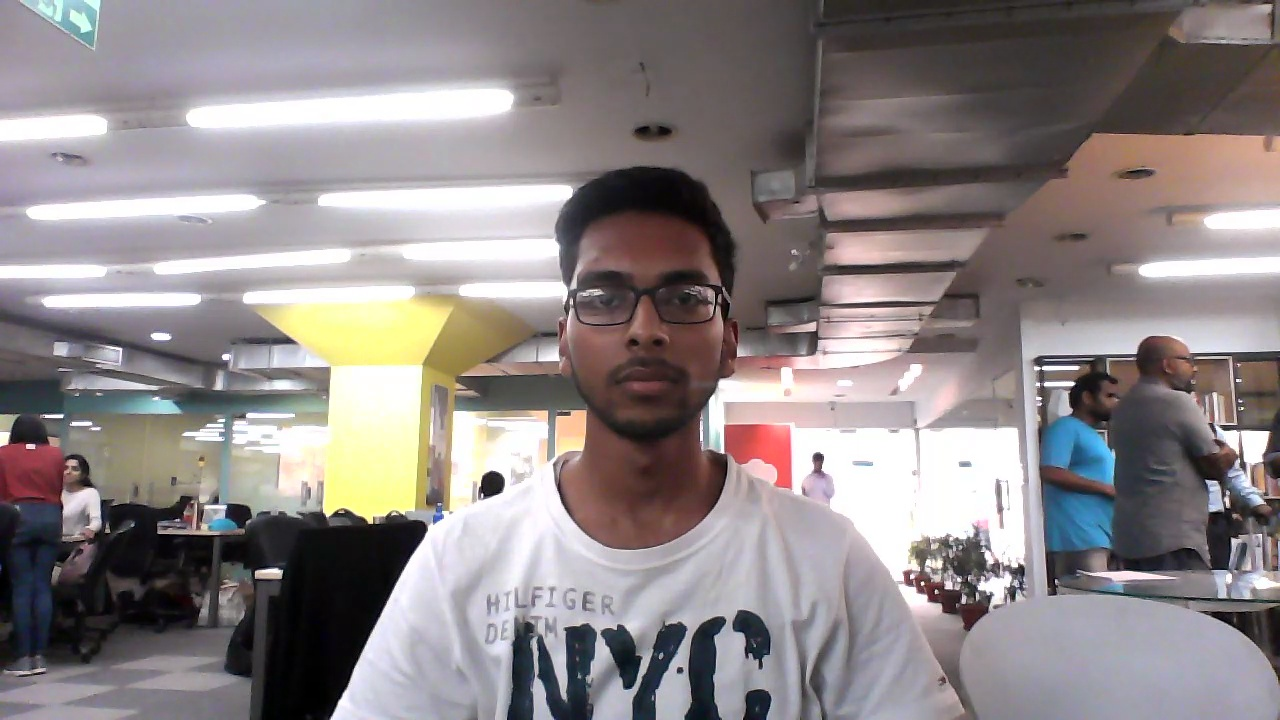open: (554, 167, 746, 439)
